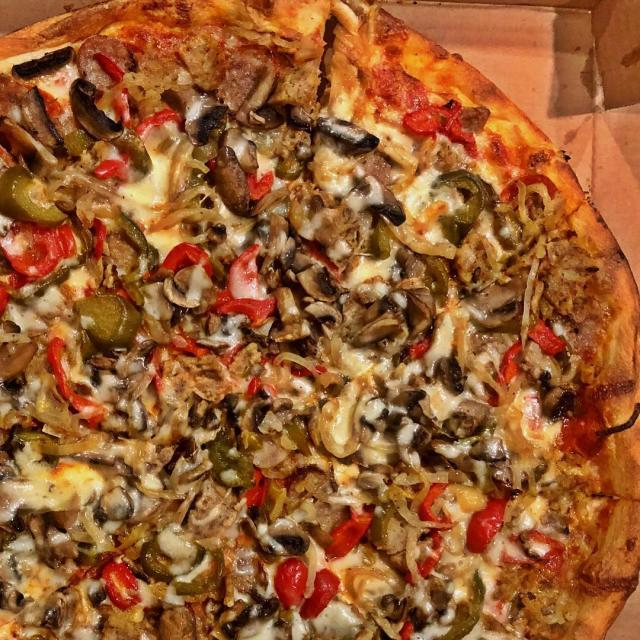mushrooms: (348, 272, 438, 353), (235, 497, 332, 561), (0, 503, 84, 574), (289, 253, 347, 329), (0, 110, 60, 179), (68, 75, 124, 139), (82, 336, 160, 381), (158, 260, 218, 318), (343, 173, 407, 227), (182, 382, 243, 437), (265, 278, 313, 347), (197, 309, 275, 351), (18, 86, 64, 155), (311, 112, 380, 156), (180, 86, 230, 146), (261, 211, 297, 288), (9, 42, 74, 80), (248, 97, 311, 136), (215, 144, 248, 218), (249, 384, 297, 433), (1, 334, 37, 398), (535, 366, 574, 420), (41, 585, 85, 629), (391, 382, 435, 426), (160, 430, 199, 476), (448, 398, 491, 436), (114, 393, 152, 435), (480, 298, 522, 332), (435, 354, 470, 394), (464, 434, 506, 464), (0, 578, 33, 615), (361, 404, 390, 432), (406, 427, 432, 452), (207, 220, 230, 247), (88, 577, 105, 609)
pizza: (0, 0, 640, 639)
